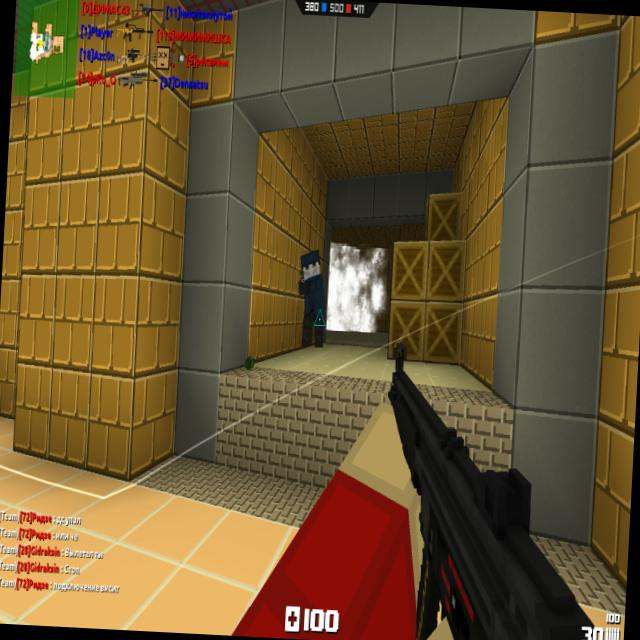enemy: (294, 246, 328, 348)
